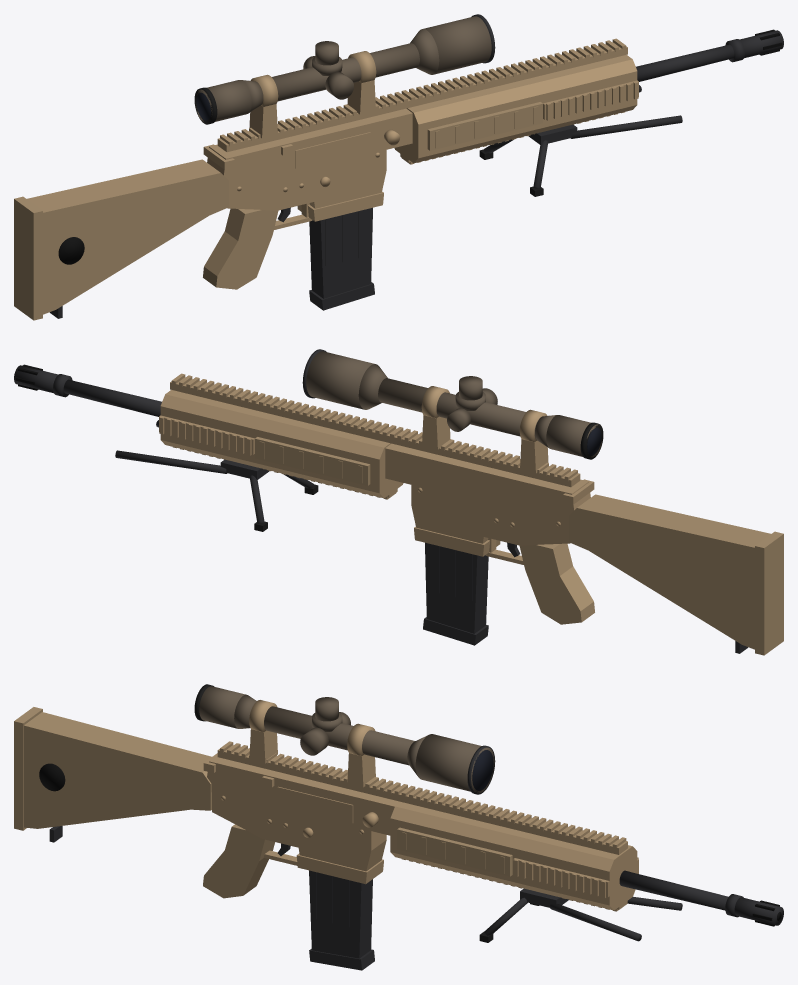
File: dmr01.glb
3 views of the same model, one above another, from view 1: azimuth 30°, elevation 25°; view 2: azimuth 150°, elevation 25°; view 3: azimuth 330°, elevation 25° (orthographic).
Parts seen in each view (by area): view 1: M_Stock, M_Handguard, M_TopRail, M_LowerReceiver, M_UpperReceiver, M_Magazine, M_PistolGrip, M_ButtPlate, M_ScopeTube, M_ScopeObjective, M_RailCovers, M_SideRails (+15 smaller); view 2: M_Stock, M_Handguard, M_TopRail, M_UpperReceiver, M_LowerReceiver, M_Magazine, M_PistolGrip, M_ButtPlate, M_ScopeTube, M_ScopeObjective, M_RailCovers, M_SideRails (+12 smaller); view 3: M_Stock, M_Handguard, M_TopRail, M_LowerReceiver, M_UpperReceiver, M_Magazine, M_PistolGrip, M_ScopeTube, M_ScopeObjective, M_RailCovers, M_SideRails, M_Barrel (+19 smaller).
Boxes of the visible parts, bbox=[...] form: M_Stock: bbox=[27, 159, 228, 314]; M_Handguard: bbox=[394, 55, 637, 163]; M_TopRail: bbox=[217, 38, 627, 152]; M_LowerReceiver: bbox=[227, 150, 386, 210]; M_UpperReceiver: bbox=[207, 108, 412, 188]; M_Magazine: bbox=[309, 207, 372, 298]; M_PistolGrip: bbox=[203, 208, 278, 289]; M_ButtPlate: bbox=[14, 196, 42, 320]; M_ScopeTube: bbox=[255, 43, 419, 104]; M_ScopeObjective: bbox=[423, 16, 491, 74]; M_RailCovers: bbox=[427, 102, 542, 150]; M_SideRails: bbox=[400, 80, 638, 164]; M_Stock: bbox=[569, 494, 770, 649]; M_Handguard: bbox=[160, 390, 403, 498]; M_TopRail: bbox=[170, 373, 580, 487]; M_UpperReceiver: bbox=[385, 443, 590, 523]; M_LowerReceiver: bbox=[411, 485, 570, 545]; M_Magazine: bbox=[425, 542, 488, 633]; M_PistolGrip: bbox=[519, 543, 594, 624]; M_ButtPlate: bbox=[755, 531, 783, 655]; M_ScopeTube: bbox=[378, 378, 542, 439]; M_ScopeObjective: bbox=[306, 351, 374, 409]; M_RailCovers: bbox=[255, 437, 370, 485]; M_SideRails: bbox=[159, 415, 397, 499]; M_Stock: bbox=[24, 712, 211, 828]; M_Handguard: bbox=[390, 802, 637, 910]; M_TopRail: bbox=[217, 741, 627, 854]; M_LowerReceiver: bbox=[212, 792, 386, 871]; M_UpperReceiver: bbox=[207, 755, 400, 835]; M_Magazine: bbox=[309, 870, 372, 958]; M_PistolGrip: bbox=[203, 824, 274, 898]; M_ScopeTube: bbox=[264, 706, 414, 765]; M_ScopeObjective: bbox=[415, 734, 494, 793]; M_RailCovers: bbox=[397, 827, 512, 876]; M_SideRails: bbox=[402, 857, 638, 911]; M_Barrel: bbox=[619, 870, 728, 910].
Size of the model in its own units: 1.04 by 0.3379 by 0.132.
